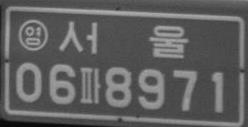0: (14, 61, 42, 103)
1: (205, 71, 233, 114)
6: (48, 63, 75, 105)
7: (172, 68, 198, 112)
8: (104, 65, 133, 108)
9: (137, 67, 165, 110)
서울_D: (57, 20, 189, 60)
영: (18, 18, 48, 51)
파: (79, 66, 101, 105)
